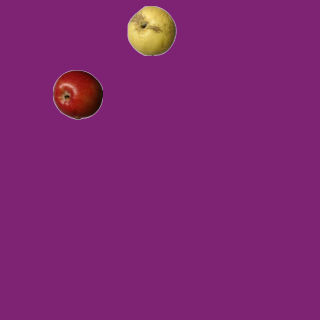Apple Braeburn: (52, 69, 102, 119)
Apple Golden 1: (126, 5, 176, 55)
